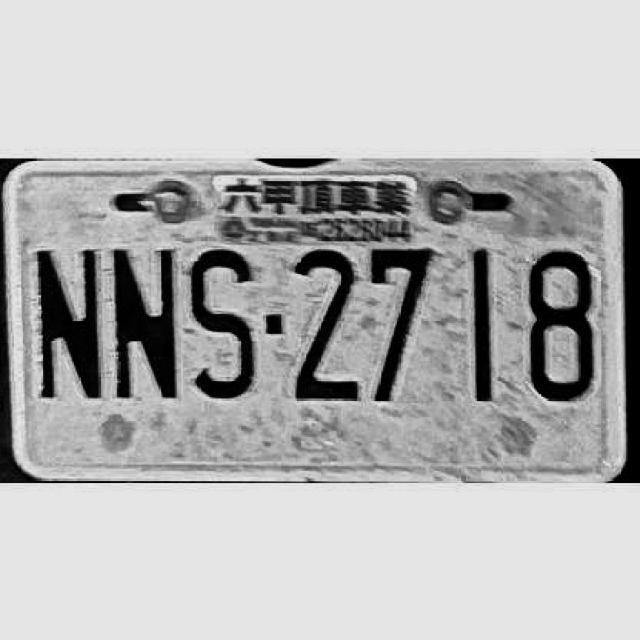-: (263, 310, 285, 336)
1: (469, 245, 497, 406)
2: (286, 240, 357, 403)
7: (368, 240, 432, 403)
8: (523, 245, 595, 404)
N: (26, 240, 105, 402), (105, 240, 182, 398)
S: (186, 242, 257, 400)
